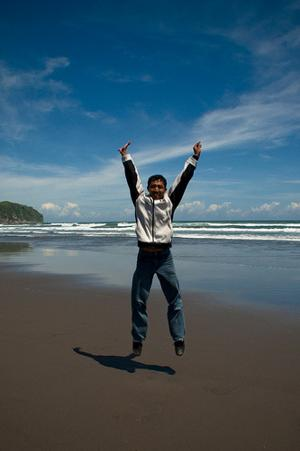person: (120, 140, 204, 357)
